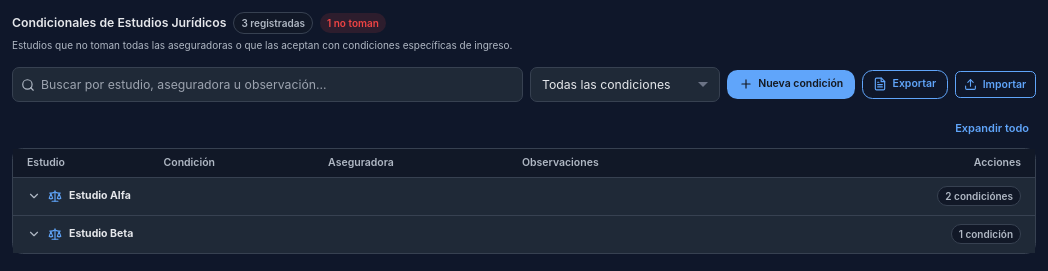
Test: CondicionalesView (1.9.4 · contadores y filtro) › al filtrar muestra 'N de M registradas'
The width and height of the screenshot is (1048, 271).
In the field with placeholder "Buscar por estudio, aseguradora u observación...": [268, 84] box [12, 67, 523, 102], type "Beta"
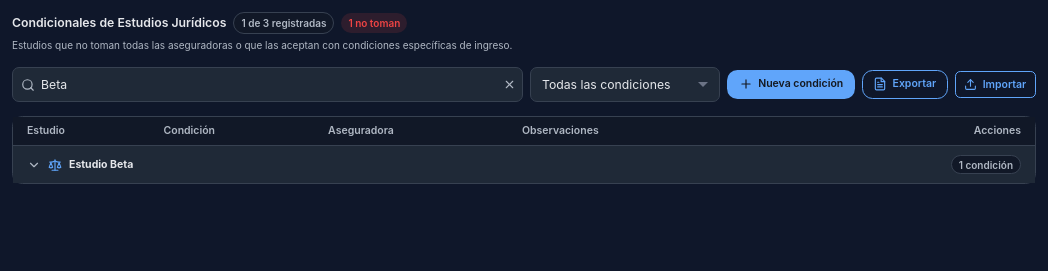
expect the text "1 de 3 registradas" is shown: met, box [233, 12, 334, 34]
